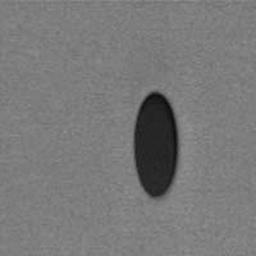Punching: (132, 93, 179, 198)
